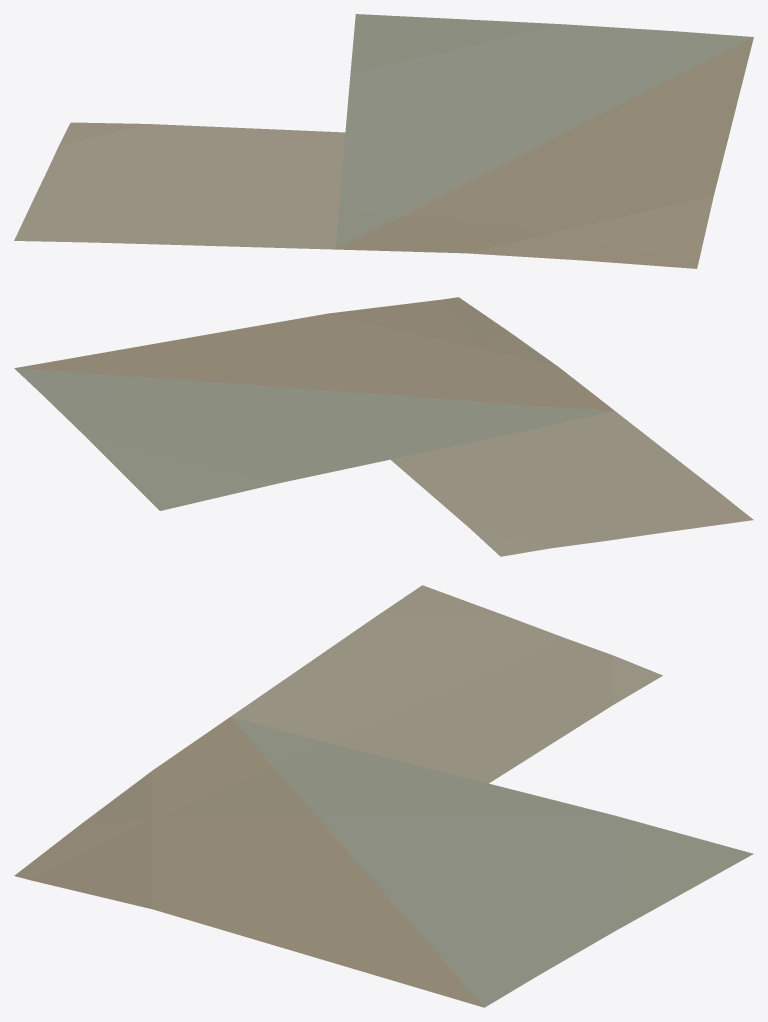
The model's file is farm_-29_-24_soil.glb.
The picture shows the model from 3 angles, top to bottom: view 1: azimuth 30°, elevation 25°; view 2: azimuth 150°, elevation 25°; view 3: azimuth 270°, elevation 25°; orthographic projection. The views are drawn at different scales.
Parts seen in each view (by area): view 1: geometry_0; view 2: geometry_0; view 3: geometry_0.
Part boxes in pixels (x1=…): geometry_0: x1=14, y1=14, x2=753, y2=268; geometry_0: x1=14, y1=297, x2=753, y2=556; geometry_0: x1=14, y1=585, x2=753, y2=1007.
Size of the model in its own units: 172 by 3.63 by 128.
